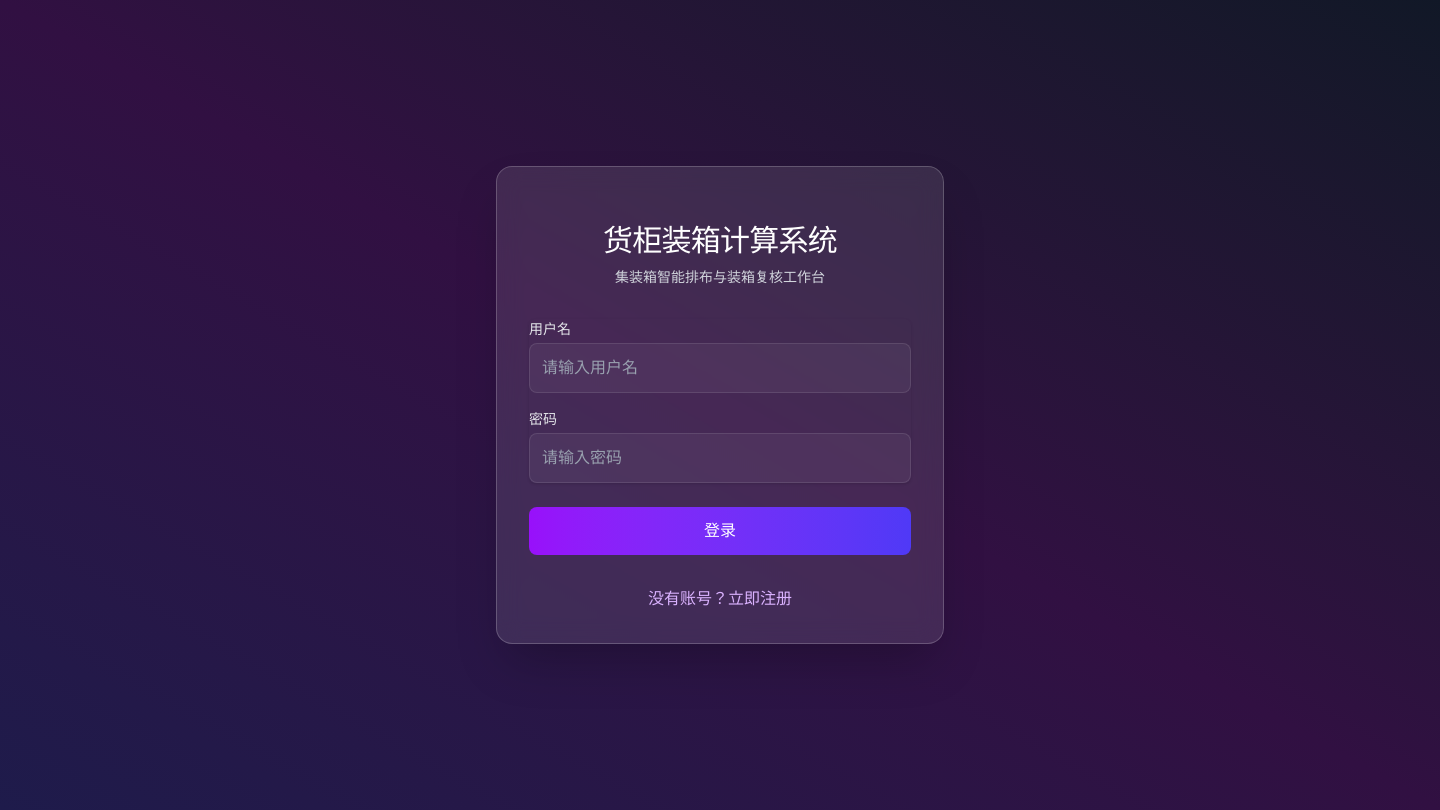
App authentication shell › keeps the existing localized login error message
Type "shell-user" into the field labelled "用户名". click: (720, 368)
box: left=529, top=343, right=911, bottom=393
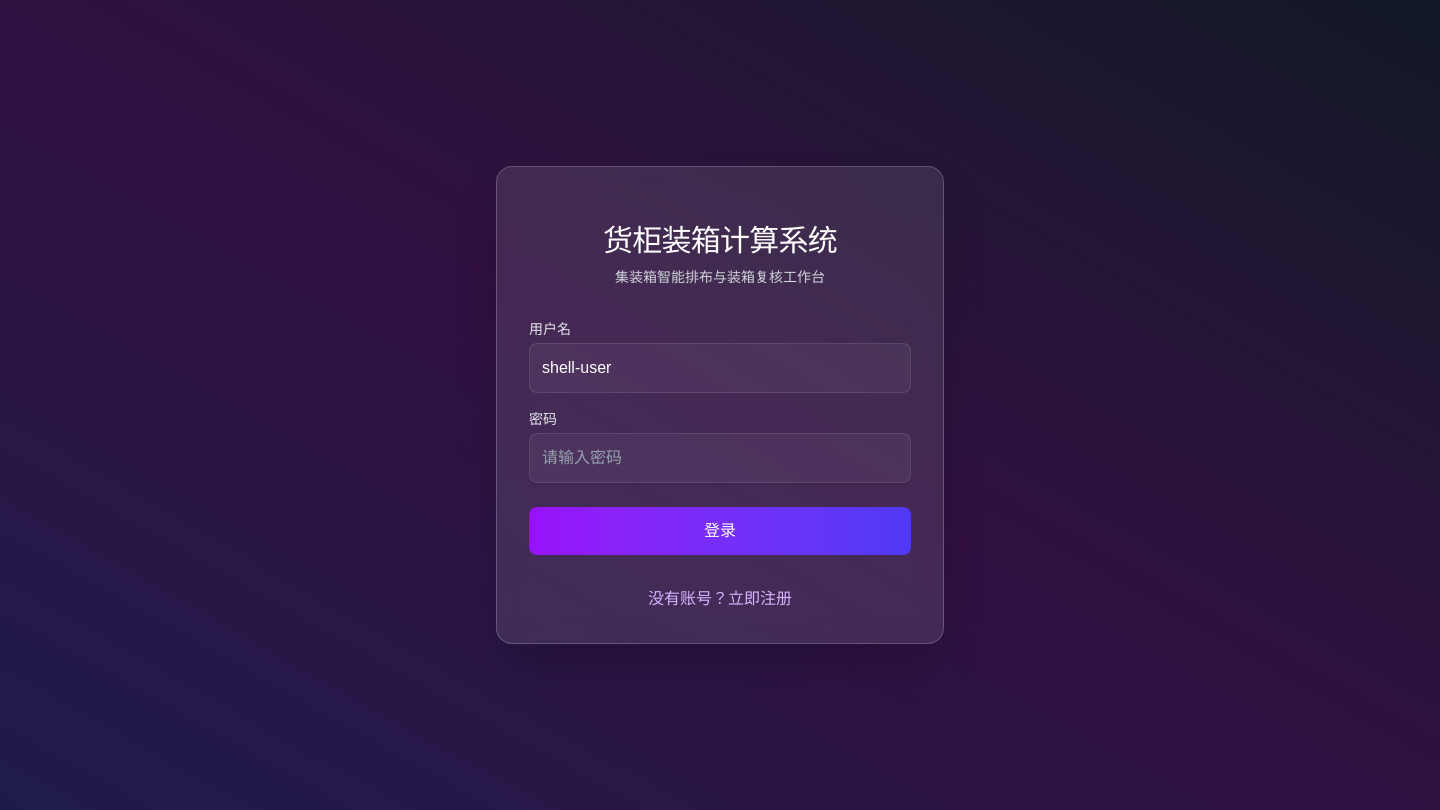
Type "wrong-password" into the password field labelled "密码". click: (720, 458)
box: left=529, top=433, right=911, bottom=483
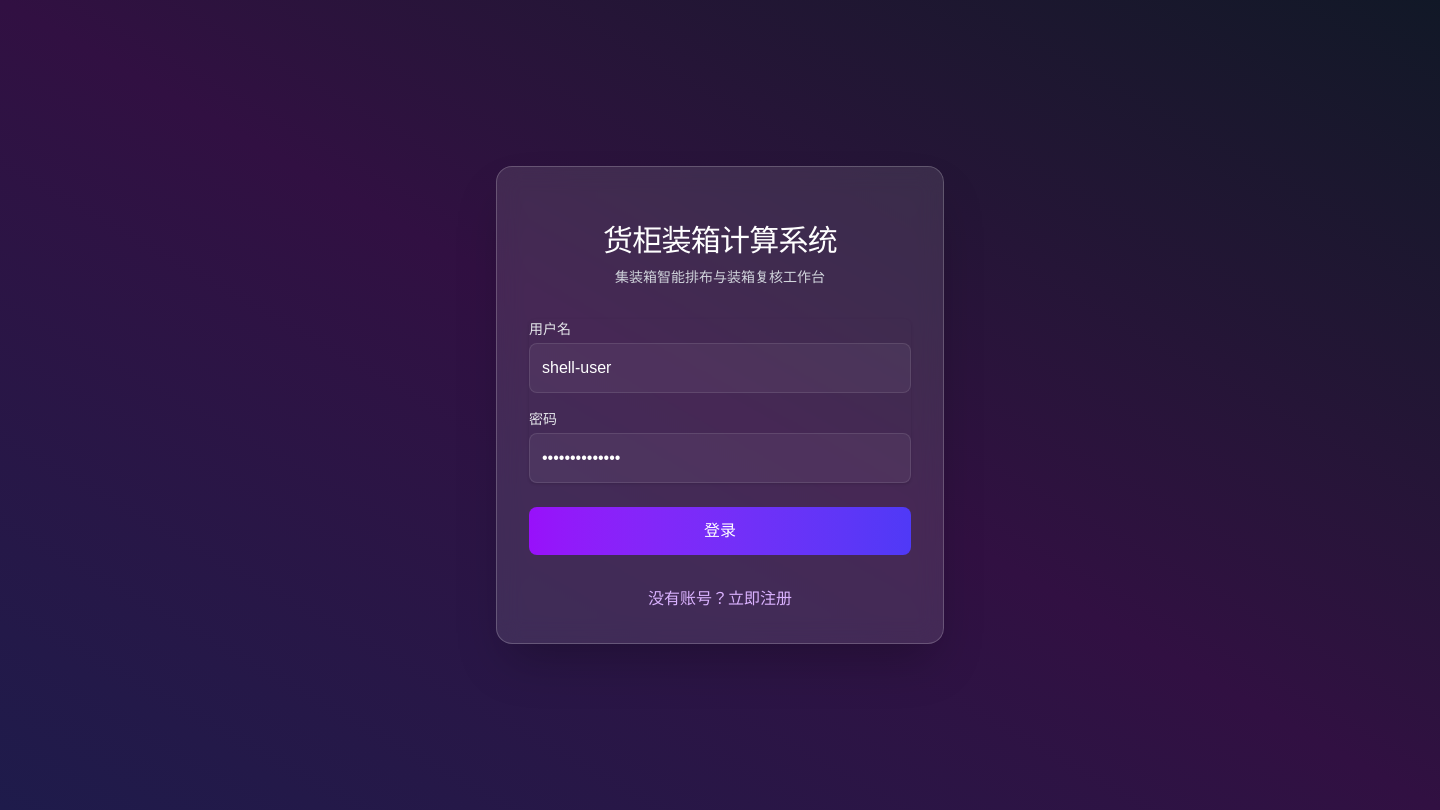
Click the button "登录". click: click(720, 531)
box: left=529, top=507, right=911, bottom=555
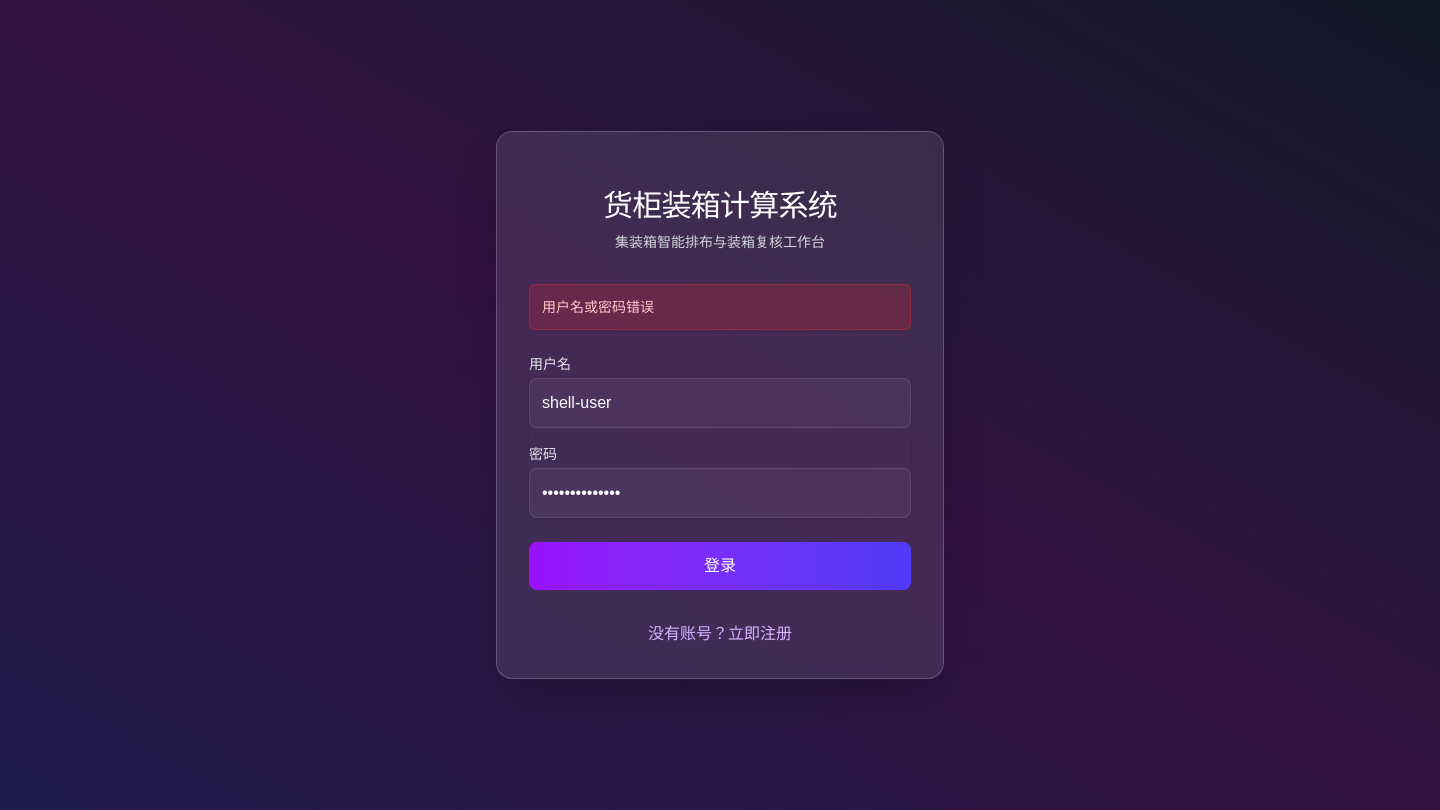
Check: the text "用户名或密码错误" is shown, box left=529, top=284, right=911, bottom=330
